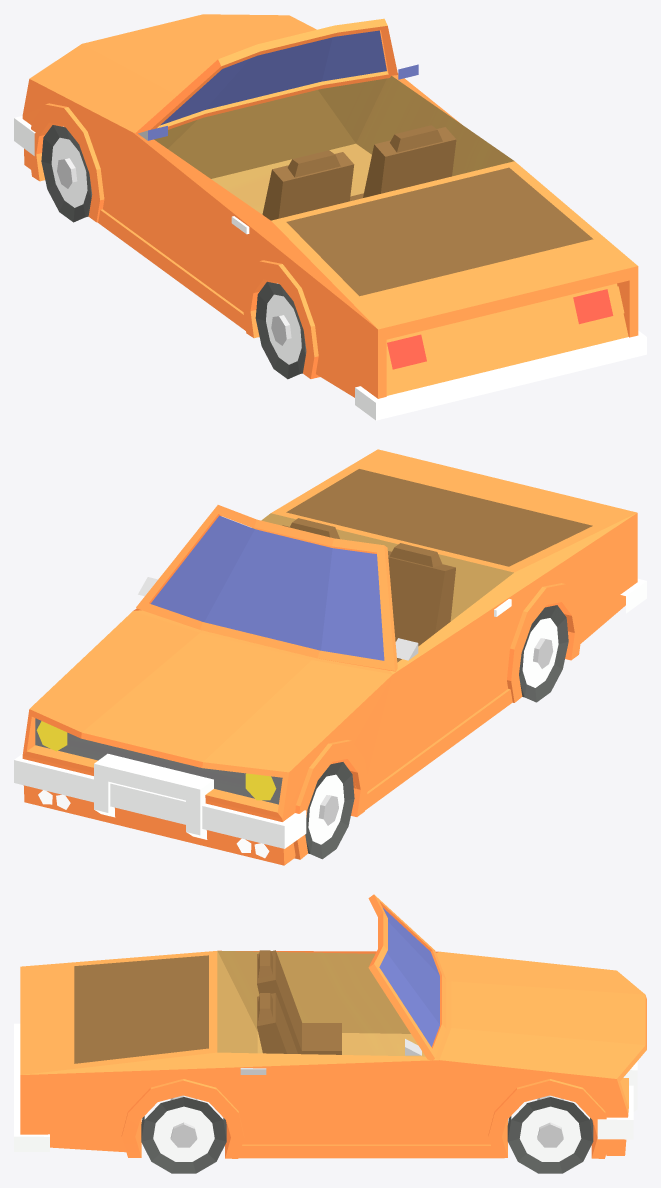
Rendered from transport_sport.glb.
3 renders of one model, top to bottom at view 1: azimuth 30°, elevation 25°; view 2: azimuth 150°, elevation 25°; view 3: azimuth 270°, elevation 25°, orthographic. The views are drawn at different scales.
Visible parts, largest first — view 1: transport_sport(Clone); view 2: transport_sport(Clone); view 3: transport_sport(Clone).
Boxes of the visible parts, x1,y1,x2,y2 form: transport_sport(Clone): (14,14,646,420); transport_sport(Clone): (14,449,646,865); transport_sport(Clone): (14,894,646,1173).
Size of the model in its own units: 1.63 by 1.27 by 3.85.
1 material, 1 textured.
